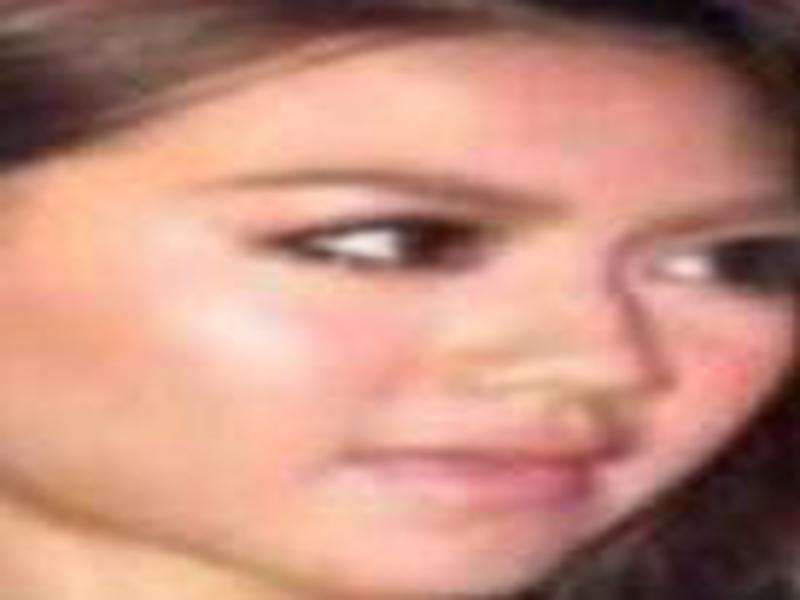without_mask: (44, 21, 800, 597)
